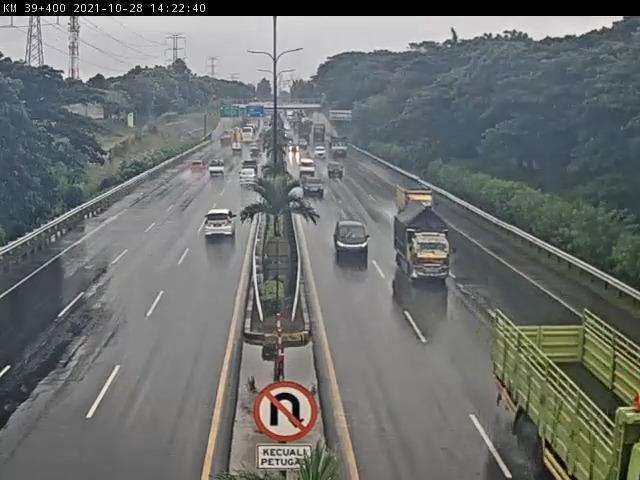car: (333, 219, 371, 259), (204, 209, 238, 241), (304, 176, 327, 199), (300, 159, 319, 180), (237, 169, 258, 186), (208, 159, 227, 176), (327, 162, 345, 178), (242, 160, 261, 175), (189, 160, 206, 175)
truck: (495, 306, 640, 480), (395, 204, 456, 284), (396, 184, 439, 215)
